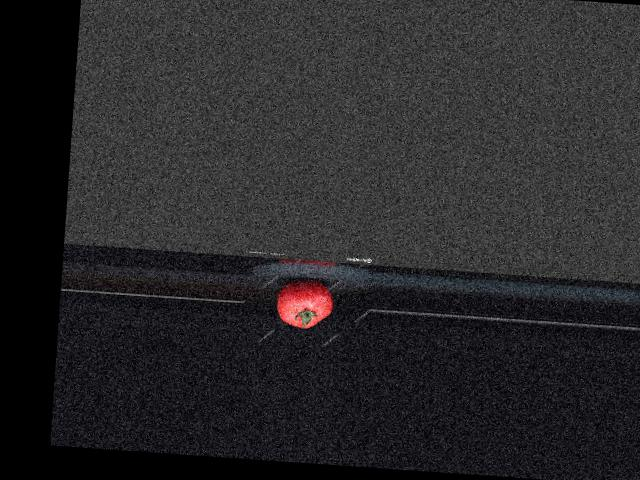tomato: (274, 277, 334, 330)
